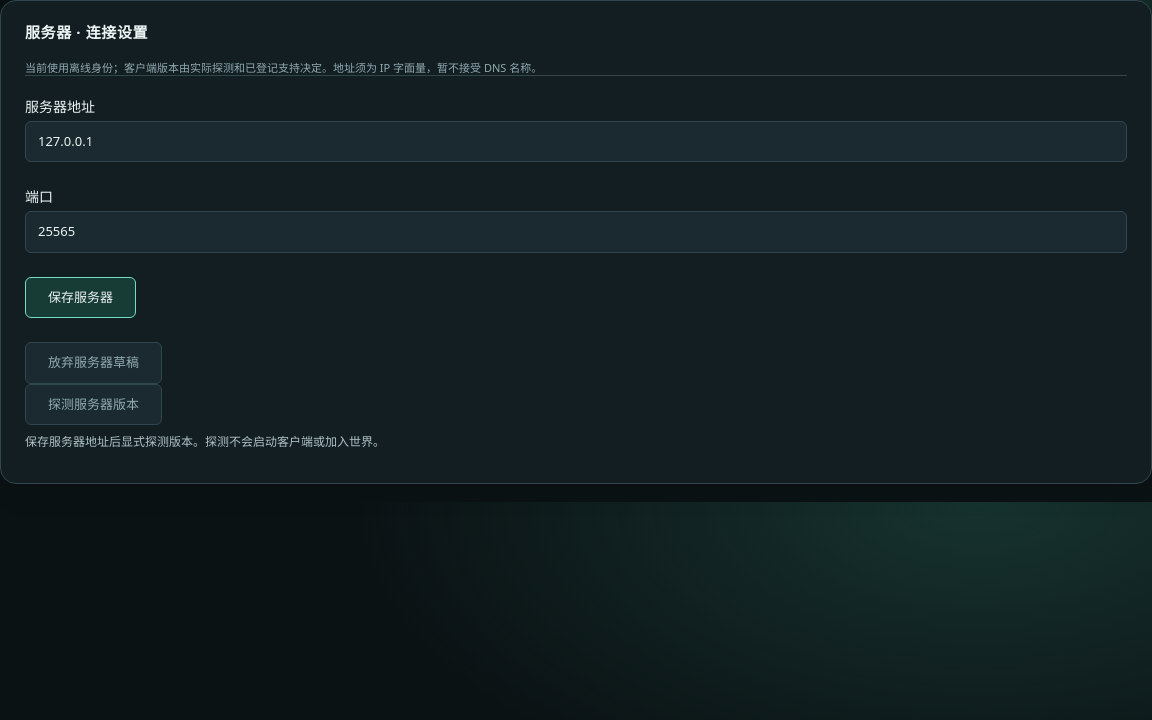
Test case: 服务器设置 › 未保存及草稿不能探测，保存后模拟数据明确拒绝真实探测
Check: the button with test id "server-probe" is disabled, box [25,384,162,425]
Click the button with test id "server-save" at [80, 298], box [25,277,136,318]
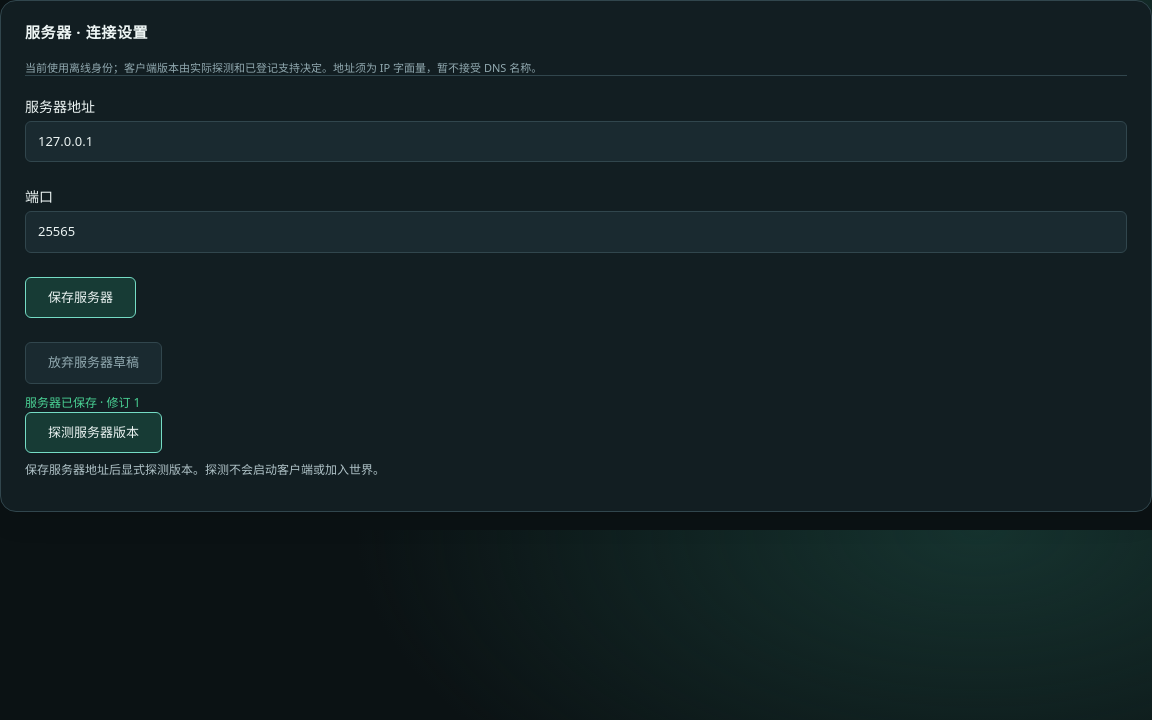
Check: the button with test id "server-probe" is enabled
Click the button with test id "server-probe" at [94, 433], box [25,412,162,453]
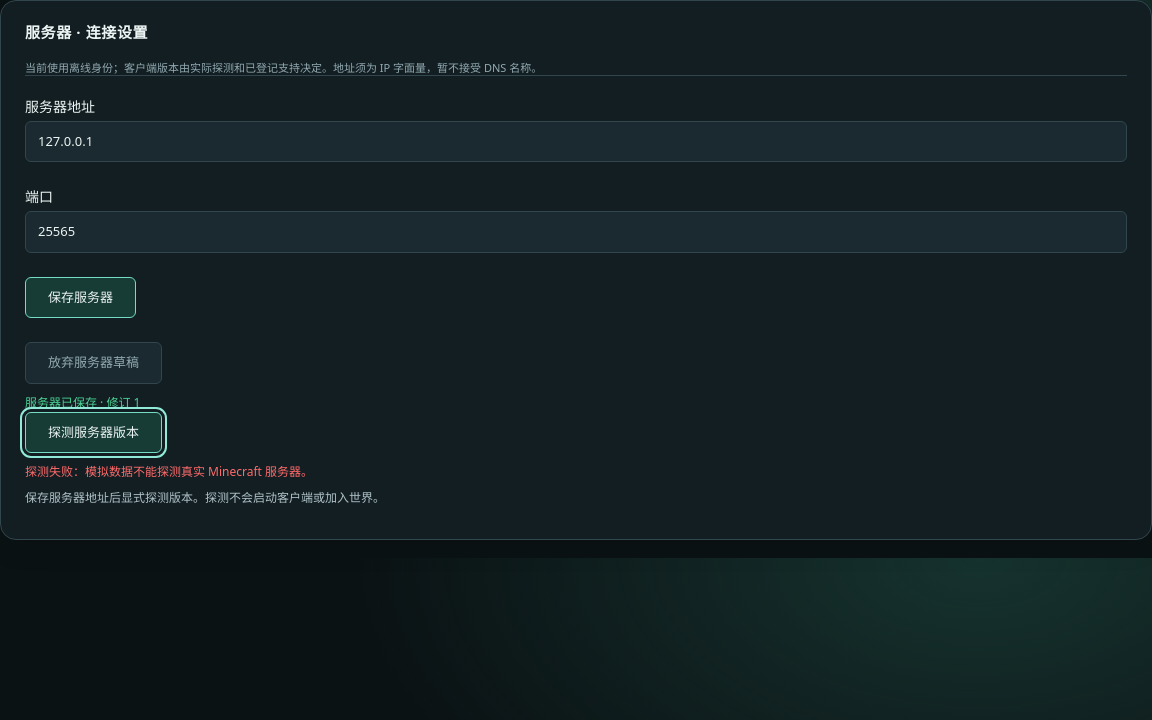
Check: the message with test id "server-probe-result" shows "模拟数据不能探测真实 Minecraft 服务器", box [25,463,313,480]
Type "7" into the field with test id "server-port" at [576, 232], box [25,211,1127,253]
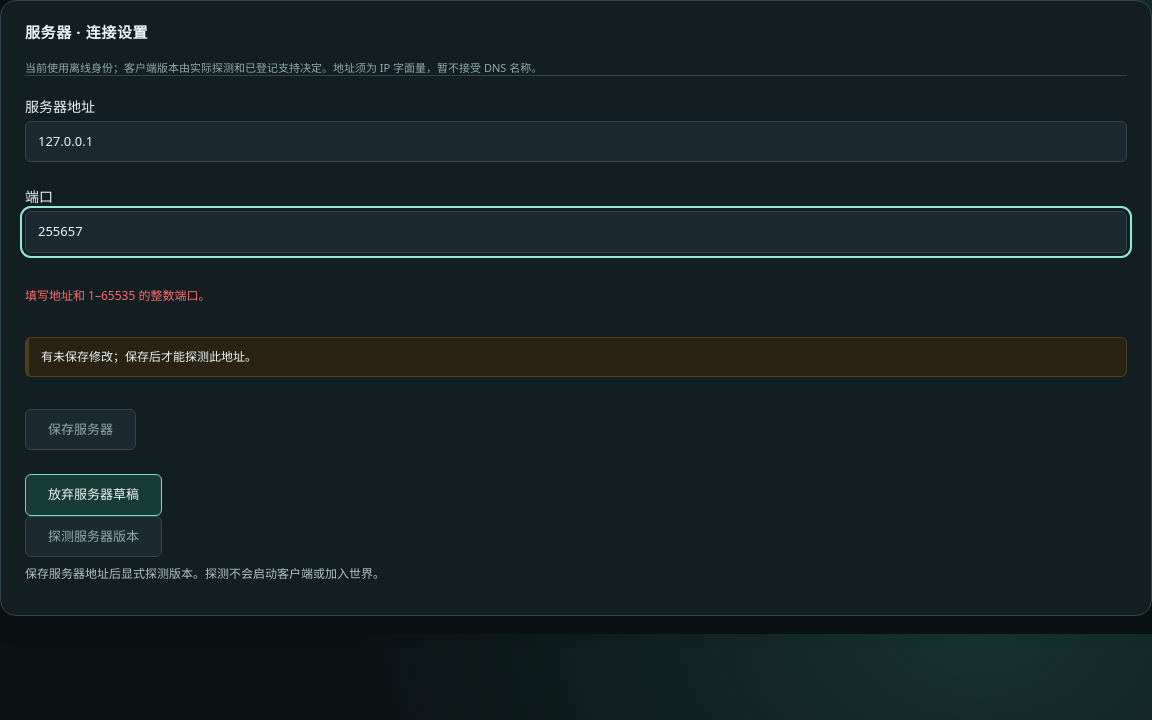
Check: the button with test id "server-probe" is disabled, box [25,516,162,557]
Check: the message with test id "server-probe-result" is gone
